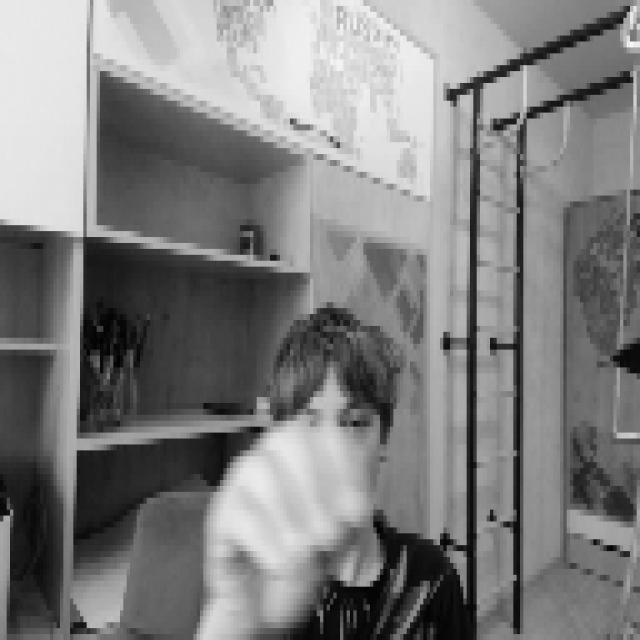left_click: (200, 409, 373, 628)
